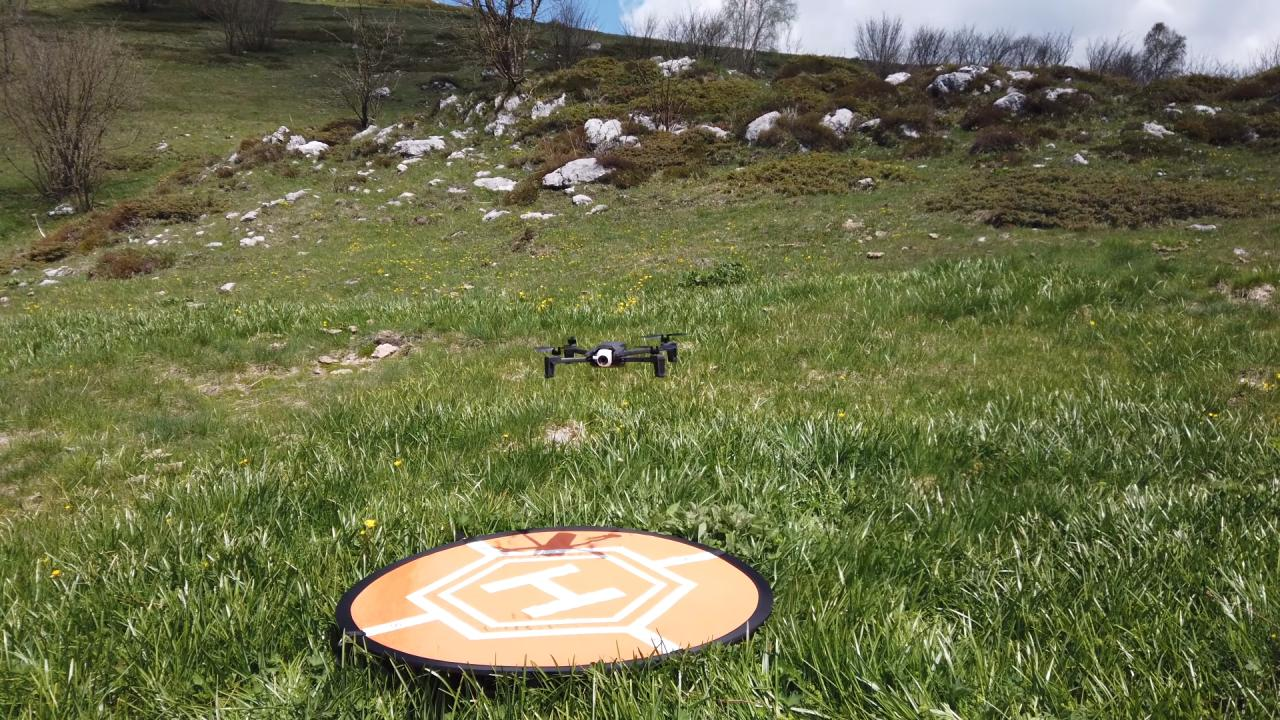Drone: (519, 322, 701, 390)
